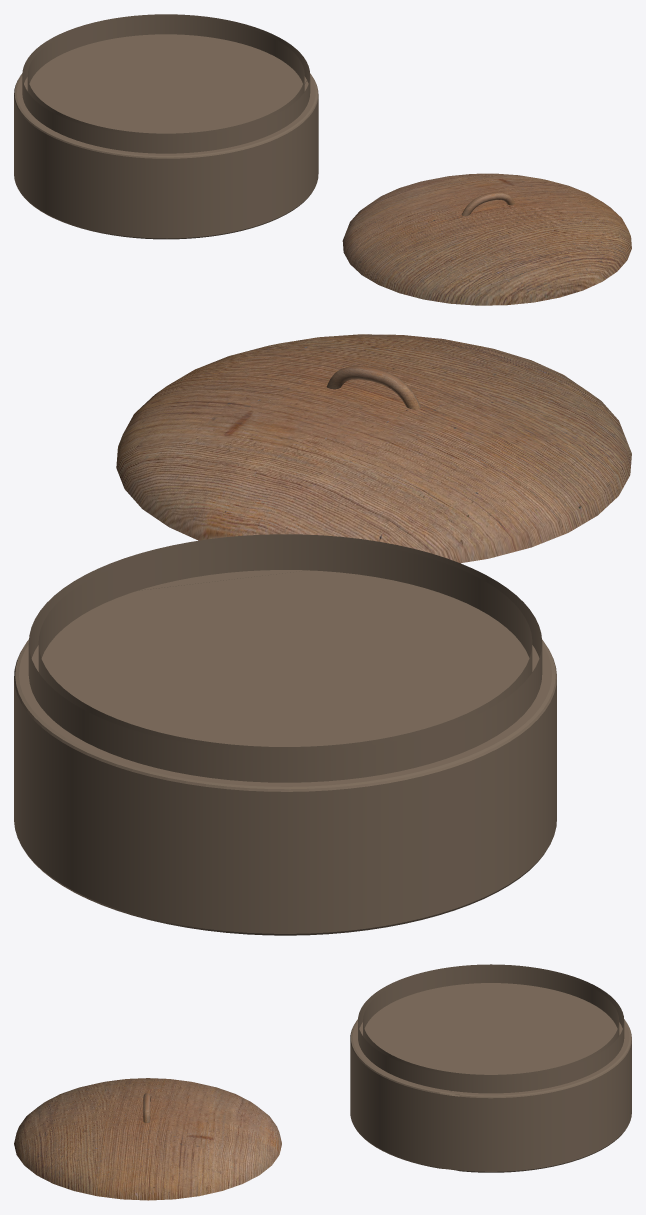
File: steamer.fbx
The picture shows the model from 3 angles, top to bottom: view 1: azimuth 30°, elevation 25°; view 2: azimuth 150°, elevation 25°; view 3: azimuth 270°, elevation 25°; orthographic projection. The views are drawn at different scales.
Parts seen in each view (by area): view 1: Circle, 3DXY_geometry_010; view 2: Circle, 3DXY_geometry_010; view 3: Circle, 3DXY_geometry_010.
Boxes of the visible parts, x1,y1,x2,y2 form: Circle: (14, 14, 318, 239); 3DXY_geometry_010: (342, 173, 631, 305); Circle: (14, 534, 556, 935); 3DXY_geometry_010: (116, 334, 631, 563); Circle: (350, 964, 631, 1172); 3DXY_geometry_010: (14, 1078, 281, 1200).
Bounding box in the file's own units: 29753 × 7278 × 43788.
